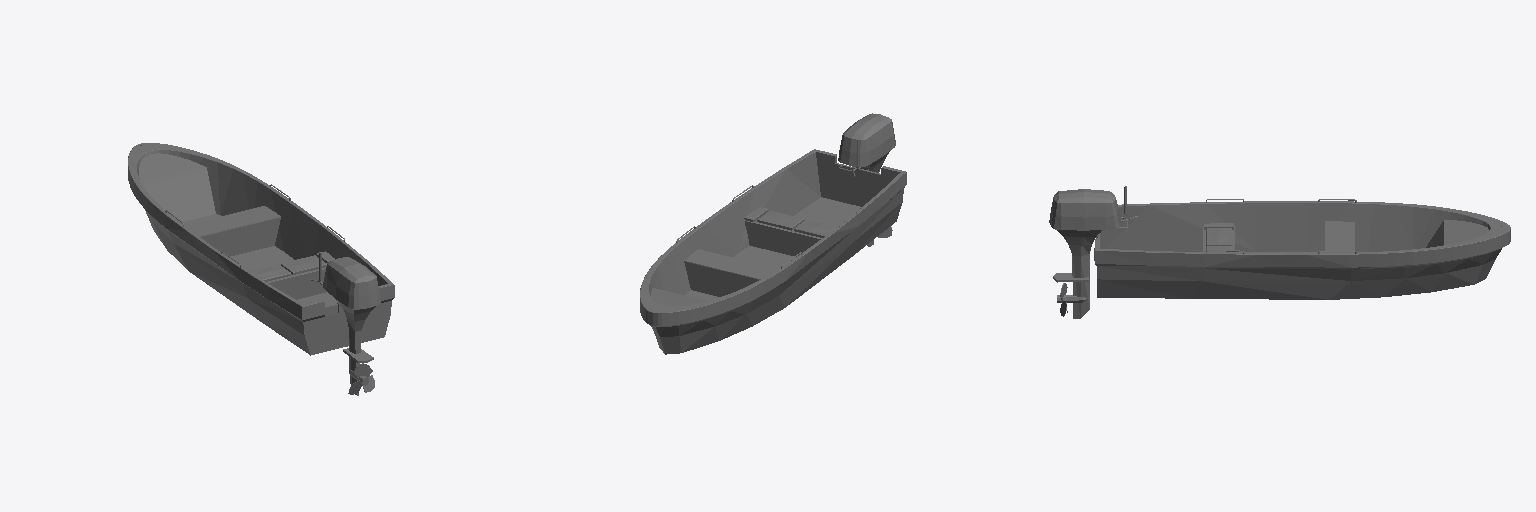
File: boatMaya.obj
The picture shows the model from 3 angles: view 1: azimuth 30°, elevation 25°; view 2: azimuth 150°, elevation 25°; view 3: azimuth 270°, elevation 25°; orthographic projection.
Parts seen in each view (by area): view 1: boatMaya1:boat01; view 2: boatMaya1:boat01; view 3: boatMaya1:boat01.
Boxes of the visible parts, x1=… form: boatMaya1:boat01: x1=128, y1=143, x2=394, y2=395; boatMaya1:boat01: x1=640, y1=113, x2=906, y2=354; boatMaya1:boat01: x1=1049, y1=186, x2=1510, y2=318.
Size of the model in its own units: 0.2327 by 0.2564 by 0.8448.